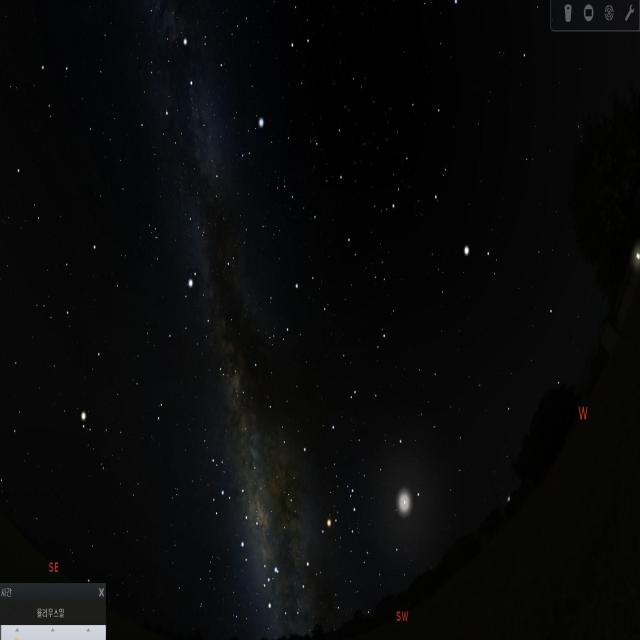aquila: (166, 237, 250, 389)
bootes: (400, 86, 502, 292)
cygnus: (160, 31, 230, 192)
lyra: (230, 112, 270, 172)
moon: (384, 472, 420, 542)
sagittarius: (191, 432, 257, 544)
scorpius: (255, 480, 368, 608)
